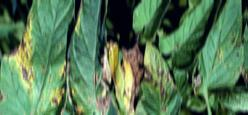Tomato leaf bacterial spot: (0, 0, 77, 115), (68, 0, 116, 115), (194, 0, 247, 97), (144, 36, 182, 115)
